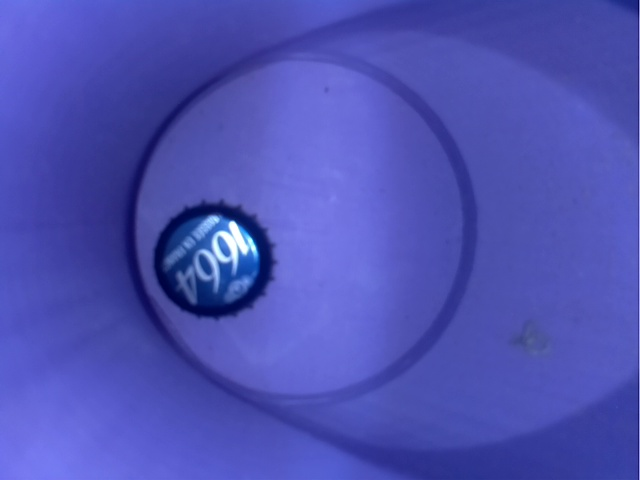capsule: (137, 195, 297, 320)
